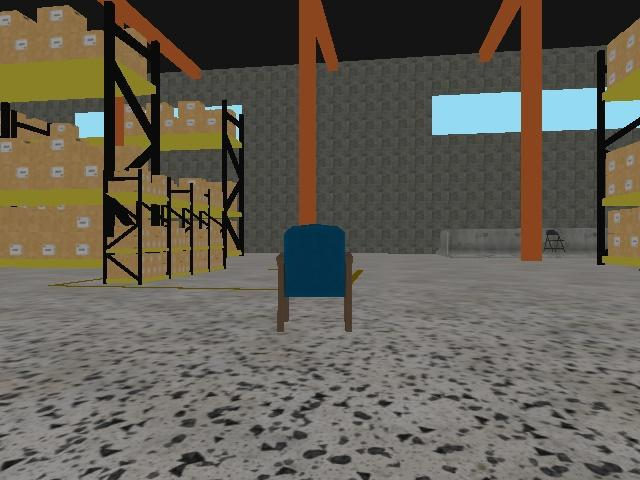chair: (276, 223, 354, 334), (542, 228, 566, 255)
